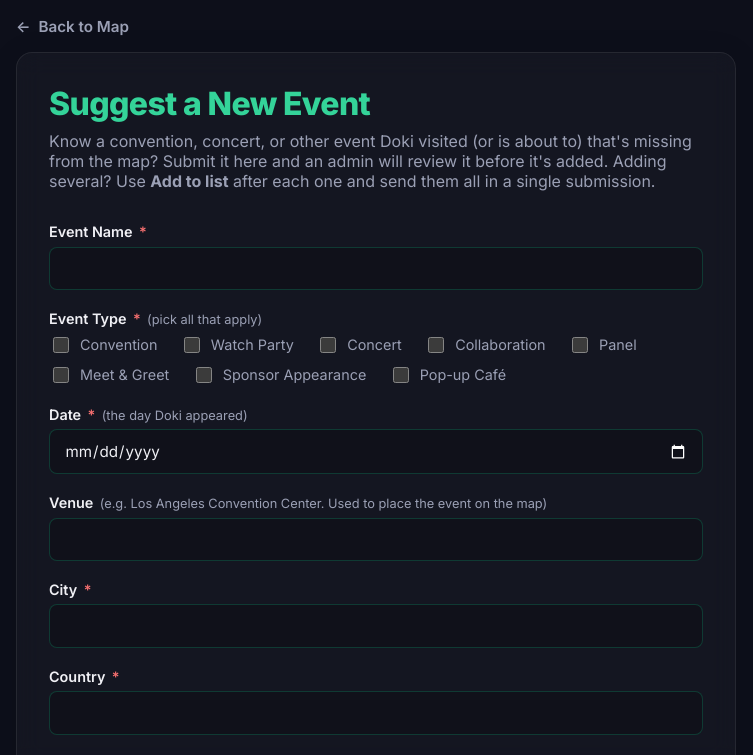
Scenario: AddEvent › requires at least one event type before an entry is valid
Expected: the heading "Suggest a New Event" is shown, [49,85,703,123]
Type "Con A" into the field labelled "Event Name *" at (376, 268), box [49,247,703,290]
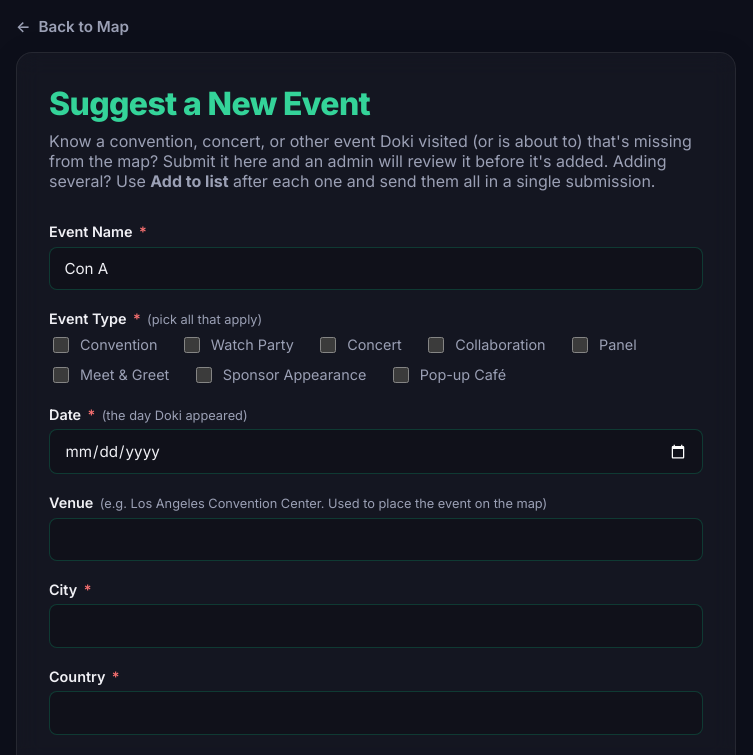
Type "2027-03-15" into the date field labelled "Date * (the day Doki appeared)" at (376, 452), box [49,429,703,474]
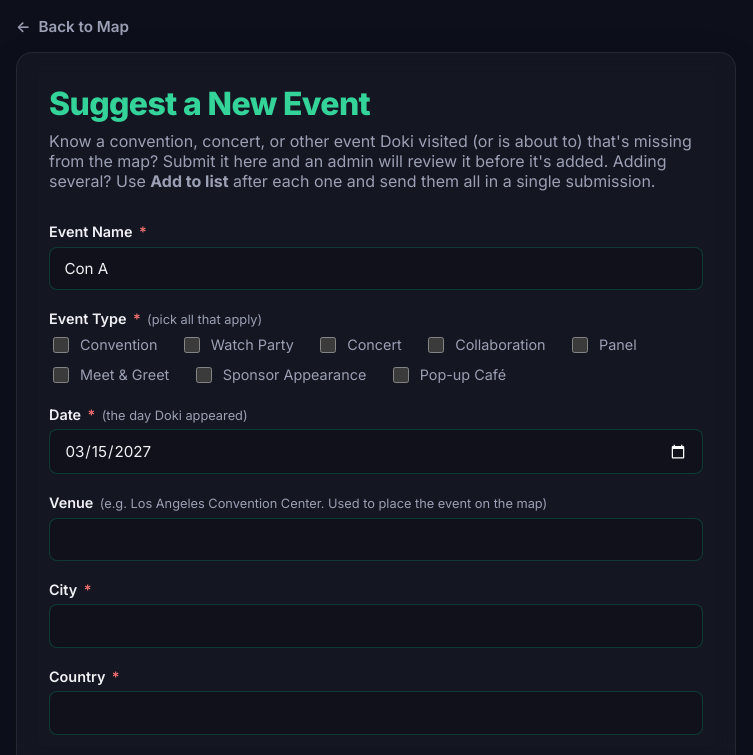
Type "Tokyo" into the field labelled "City *" at (376, 626), box [49,604,703,648]
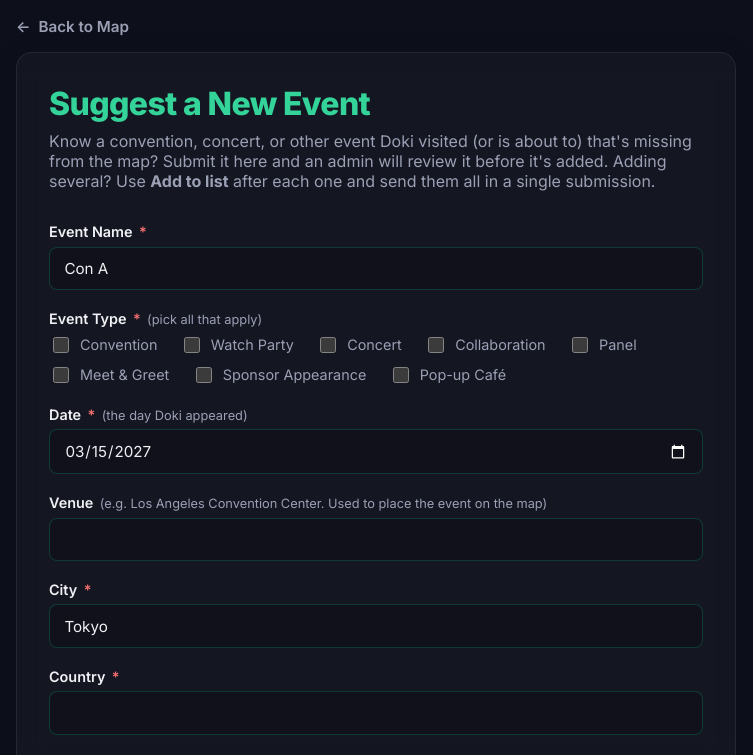
Type "Japan" into the field labelled "Country *" at (376, 713), box [49,691,703,735]
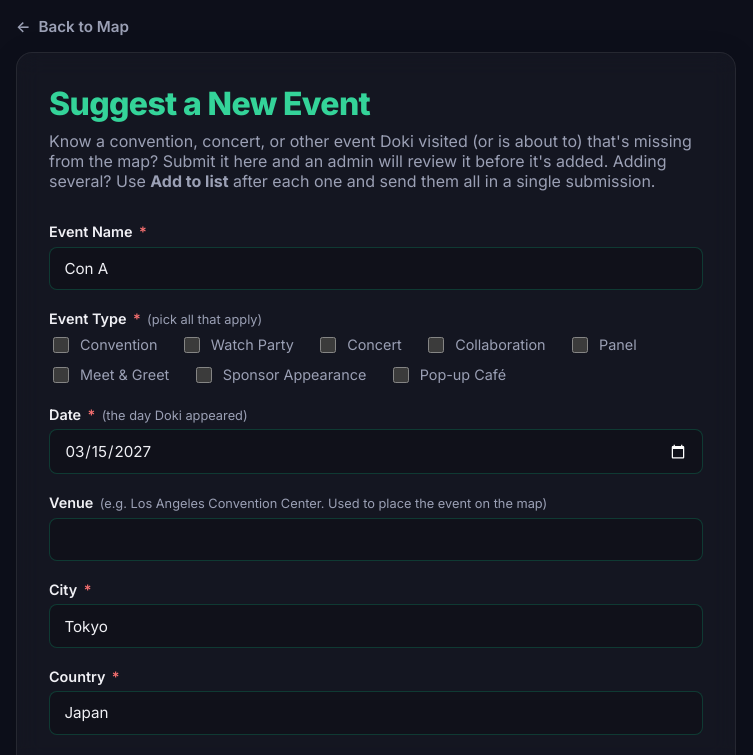
Click the checkbox labelled "Convention" at (61, 344), box [53,336,69,352]
(page scrolled)
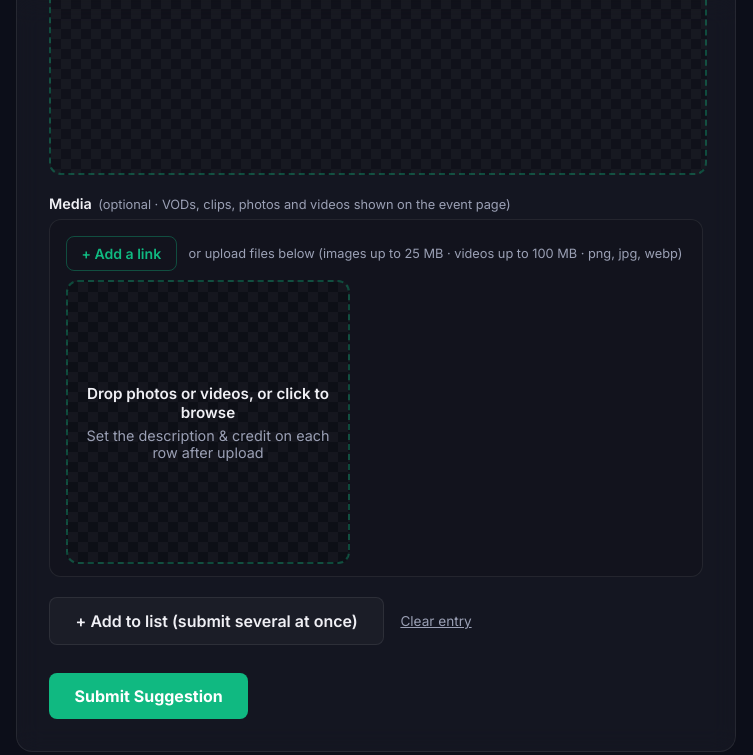
Expected: the button "Submit Suggestion" is enabled, [49,673,248,719]
